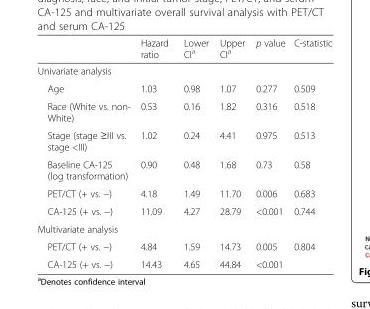table: (36, 36, 331, 269)
table column: (36, 36, 134, 269), (288, 36, 331, 269), (134, 36, 175, 269), (249, 36, 288, 269), (175, 36, 213, 269), (213, 36, 249, 269)
table column header: (36, 36, 331, 62)
table projected row header: (36, 219, 331, 237), (36, 62, 331, 79)
table row: (36, 125, 331, 155), (36, 155, 331, 184), (36, 97, 331, 125), (36, 36, 331, 62), (36, 79, 331, 97), (36, 201, 331, 219), (36, 219, 331, 237), (36, 62, 331, 79), (36, 184, 331, 201), (36, 237, 331, 254), (36, 254, 331, 269)
table spanning cell: (288, 237, 331, 269)
